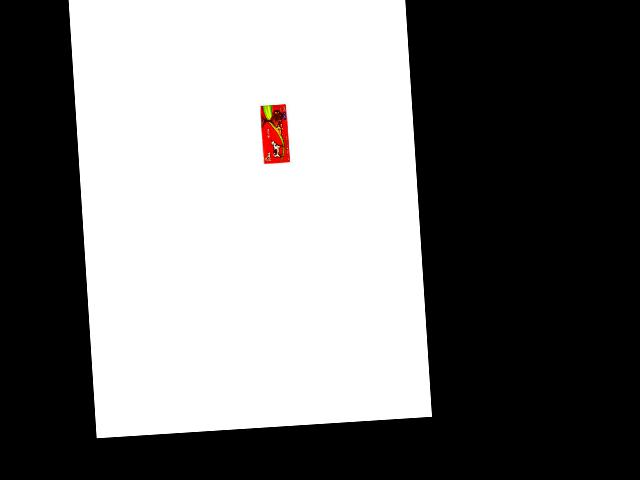chocolate: (258, 102, 295, 168)
